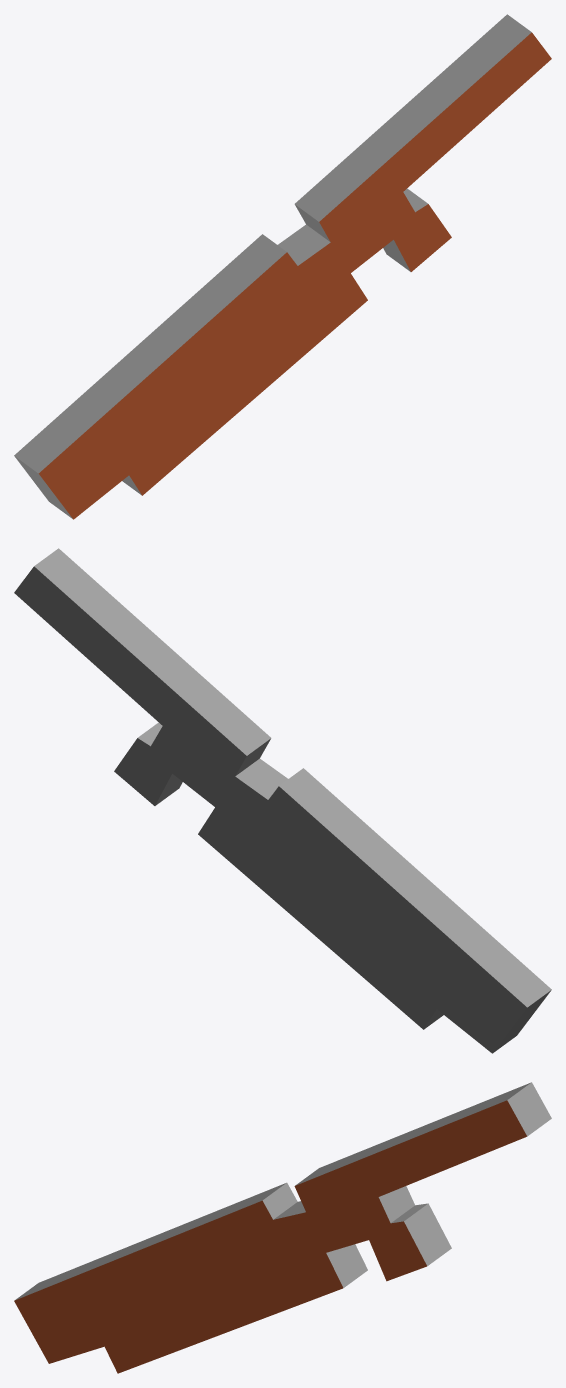
File: construction_5853_assumed_A_Casa_h6m.obj
The picture shows the model from 3 angles, top to bottom: view 1: azimuth 30°, elevation 25°; view 2: azimuth 150°, elevation 25°; view 3: azimuth 330°, elevation 25°; orthographic projection.
Visible parts, largest first — view 1: construction_5853_assumed_A_Casa; view 2: construction_5853_assumed_A_Casa; view 3: construction_5853_assumed_A_Casa.
Part boxes in pixels (box(x1,y1,x2,y2)): construction_5853_assumed_A_Casa: box(14, 14, 551, 519); construction_5853_assumed_A_Casa: box(14, 548, 551, 1053); construction_5853_assumed_A_Casa: box(14, 1082, 551, 1373).
Bounding box in the file's own units: 72.23 × 50.51 × 6.
